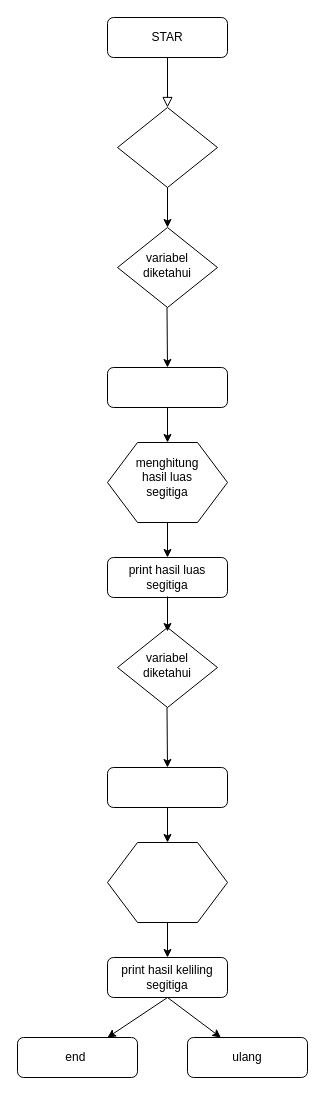
Some shapes in this 325 by 1095 pixel diagram are drawn without their labels. The shapes that lost their labels are listed below. From the top down, each one's centre as x and y in pixels, then its label:
point 167,147: pengenalan fungsi
point 167,387: mencari rumus luas segitiga
point 167,787: mencari rumus keliling segitiga
point 167,882: menghitung hasil keliling segitiga
